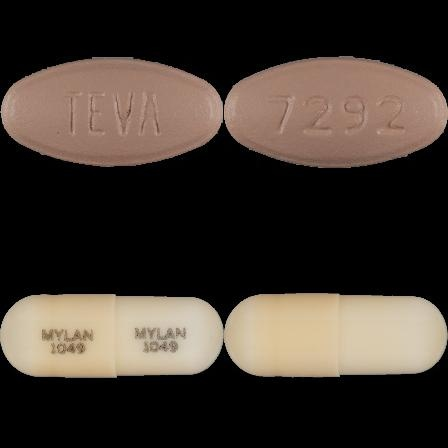45865-758: (0, 0, 224, 224)
